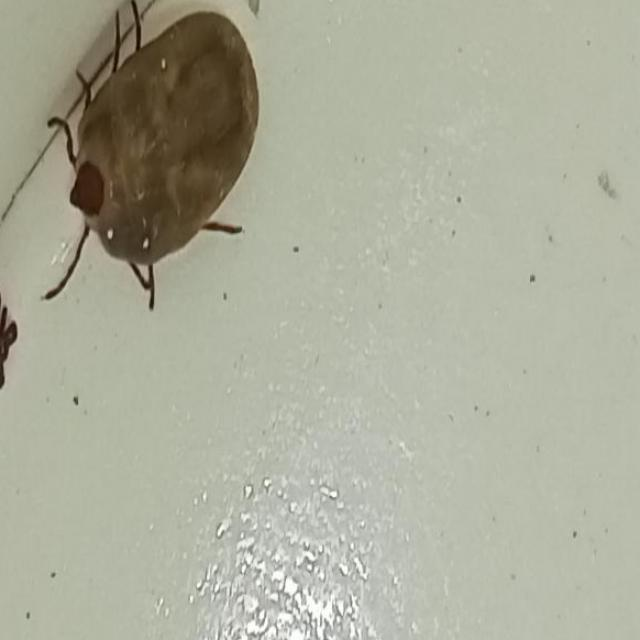Rhipicephalus Sanguineus-F-Fed: (41, 0, 260, 311)
